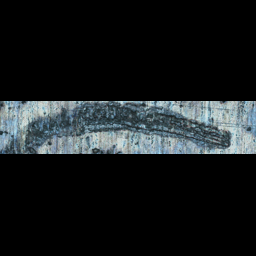d: (4, 101, 234, 152)
